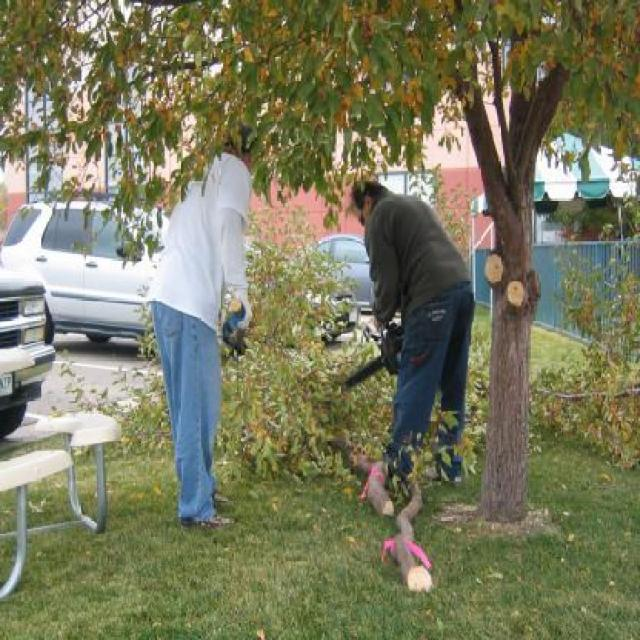Chainsaw: (342, 320, 402, 394)
